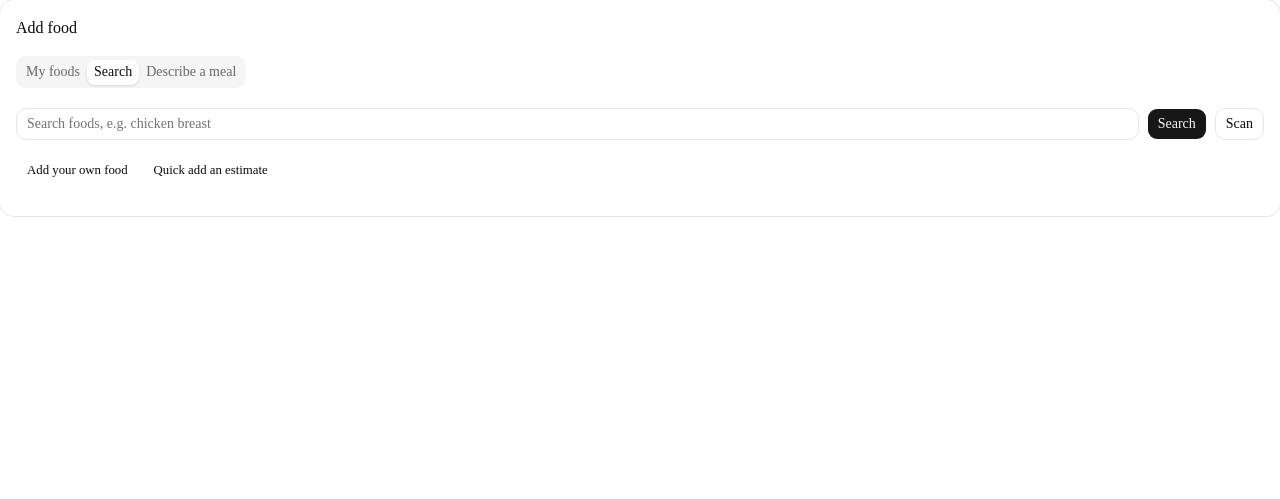
Test: AddFood — when search finds nothing › asks one question with plainly named answers, even for a single word
The image size is (1280, 499).
Type "Maqlouba" into the field labelled "Search foods" at coordinates (577, 124), box x1=16 y1=108 x2=1139 y2=140
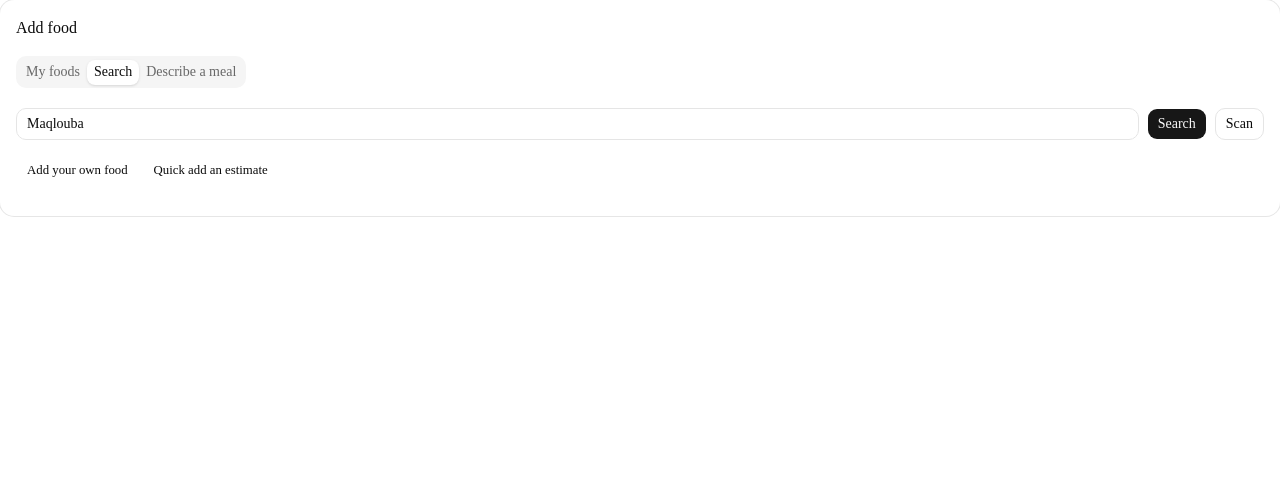
Click the button "Search" at coordinates (1177, 124), box x1=1147 y1=108 x2=1207 y2=140
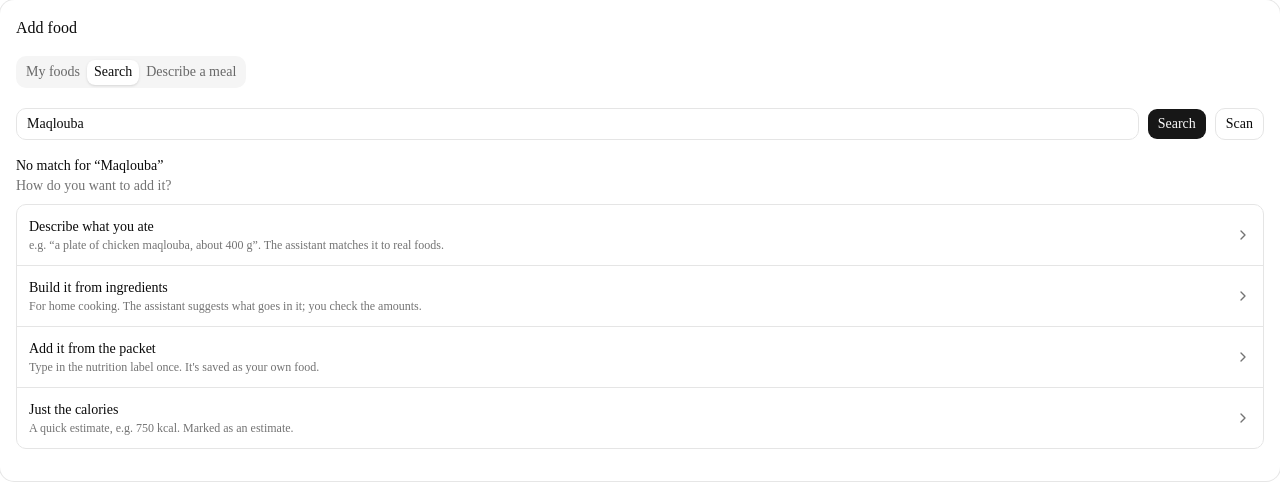
Check: the text "No match for “Maqlouba”" is shown, box x1=16 y1=158 x2=163 y2=173
Check: the text "How do you want to add it?" is shown, box x1=16 y1=178 x2=172 y2=193
Check: the button "Describe what you ate" is shown, box x1=17 y1=205 x2=1263 y2=265
